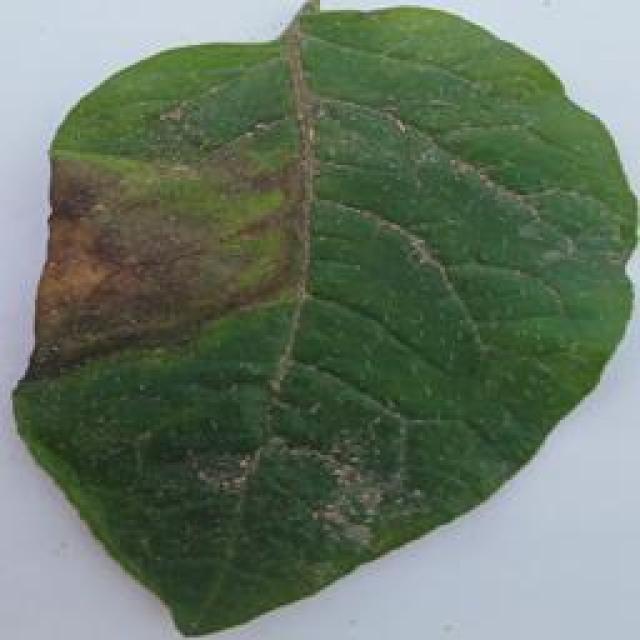Potato_Late_Blight: (15, 6, 628, 634)
